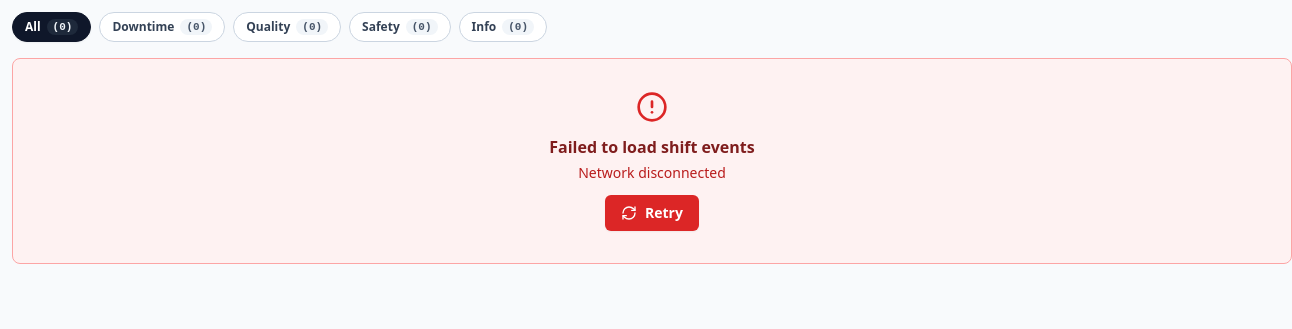
Test: EventList Component › Error State & Retry › retries fetching events when clicking "Retry" button
Expected: the heading "Failed to load shift events" is shown, [549,135,755,159]
Expected: the text "Network disconnected" is shown, [578,163,726,182]
Click the button "Retry".
click(652, 213)  # box [605,195,699,231]
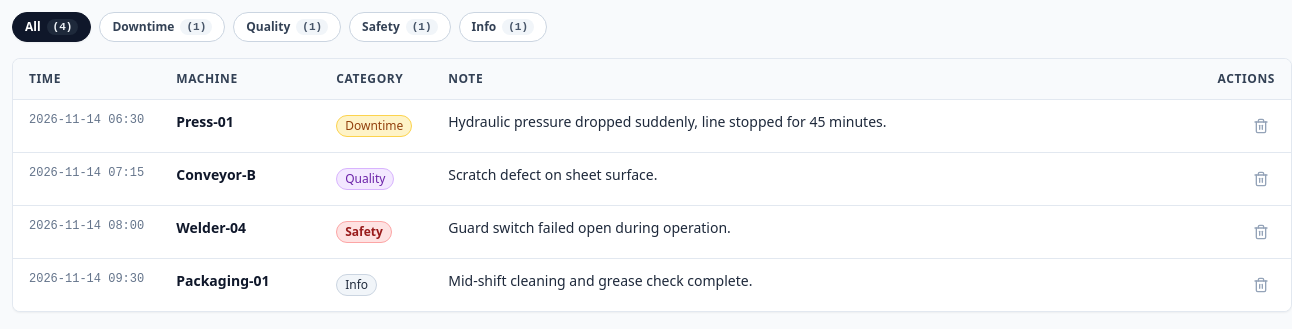
Expected: the text "Press-01" is shown, [160,100,320,152]
Expected: the heading "Failed to load shift events" is gone
